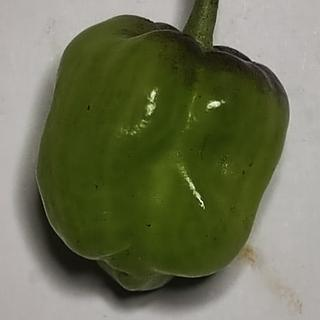Grade-A: (27, 8, 293, 296)
